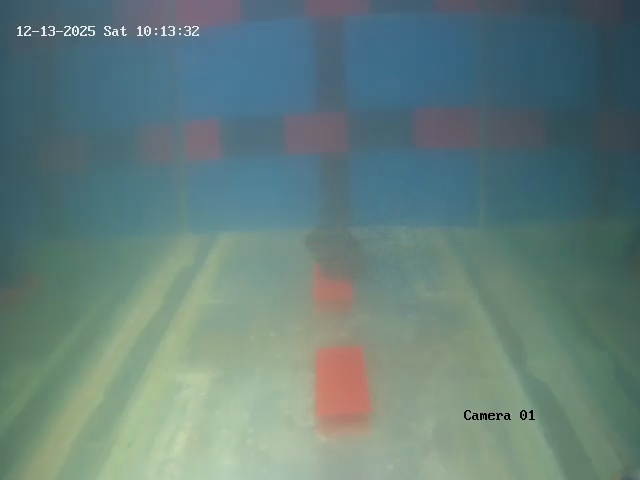fish: (298, 225, 381, 274)
